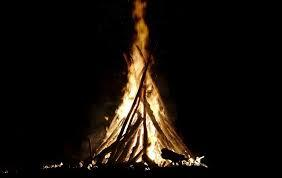fire: (87, 1, 191, 164)
